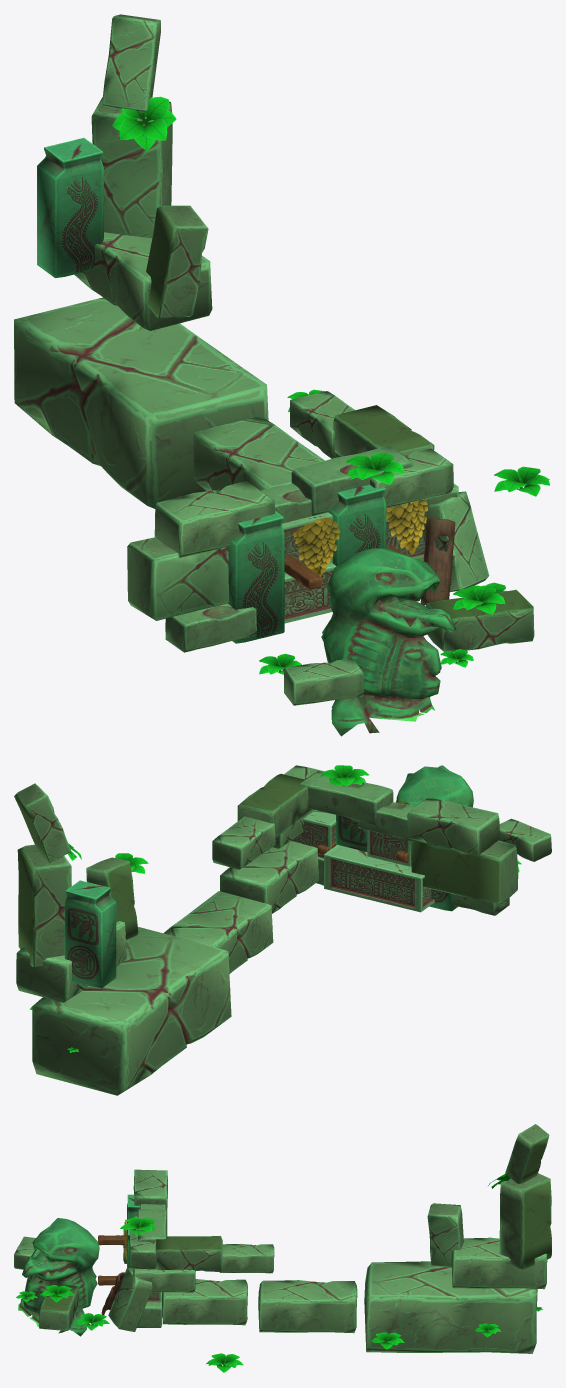
Rendered from deco_up_left.obj.
3 views of the same model, one above another, from view 1: azimuth 30°, elevation 25°; view 2: azimuth 150°, elevation 25°; view 3: azimuth 270°, elevation 25° (orthographic). The views are drawn at different scales.
Visible parts, largest first — view 1: brick3_low.014, Cube_001.002, column3_low.002, brick3_low.039, brick3_low.012, brick3_low.001, brick3_low, column3_low.001, brick3_low.006, brick3_low.086, brick3_low.040, brick3_low.024 (+17 smaller); view 2: brick3_low.014, brick3_low.039, brick3_low.001, column3_low.002, brick3_low.012, brick.020, brick3_low.003, brick3_low, brick2_low.002, brick3_low.006, brick3_low.005, brick3_low.040 (+12 smaller); view 3: brick3_low.014, Cube_001.002, brick3_low.012, brick3_low.039, brick3_low.006, brick3_low.003, brick3_low.005, brick3_low.086, brick3_low.022, brick3_low.040, brick3_low.023, brick3_low.024 (+12 smaller).
Part boxes in pixels (bbox=[...]): brick3_low.014: bbox=[14, 297, 268, 508]; Cube_001.002: bbox=[321, 548, 456, 736]; column3_low.002: bbox=[37, 138, 103, 277]; brick3_low.039: bbox=[91, 97, 172, 238]; brick3_low.012: bbox=[193, 416, 324, 491]; brick3_low.001: bbox=[127, 537, 228, 620]; brick3_low: bbox=[154, 481, 275, 557]; column3_low.001: bbox=[226, 511, 284, 643]; brick3_low.006: bbox=[74, 232, 212, 330]; brick3_low.086: bbox=[146, 205, 208, 317]; brick3_low.040: bbox=[102, 14, 160, 112]; brick3_low.024: bbox=[426, 589, 534, 651]; brick3_low.014: bbox=[32, 927, 231, 1095]; brick3_low.039: bbox=[17, 844, 71, 966]; brick3_low.001: bbox=[410, 839, 518, 904]; column3_low.002: bbox=[64, 880, 116, 988]; brick3_low.012: bbox=[164, 891, 273, 973]; brick.020: bbox=[324, 845, 434, 912]; brick3_low.003: bbox=[220, 841, 318, 913]; brick3_low: bbox=[407, 797, 500, 855]; brick2_low.002: bbox=[300, 771, 393, 824]; brick3_low.006: bbox=[16, 921, 126, 1002]; brick3_low.005: bbox=[237, 773, 313, 837]; brick3_low.040: bbox=[14, 783, 70, 862]; brick3_low.014: bbox=[364, 1261, 537, 1353]; Cube_001.002: bbox=[18, 1218, 99, 1336]; brick3_low.012: bbox=[258, 1280, 357, 1333]; brick3_low.039: bbox=[499, 1173, 551, 1269]; brick3_low.006: bbox=[451, 1237, 547, 1289]; brick3_low.003: bbox=[161, 1279, 247, 1325]; brick3_low.005: bbox=[155, 1236, 222, 1271]; brick3_low.086: bbox=[427, 1203, 463, 1267]; brick3_low.022: bbox=[108, 1268, 152, 1331]; brick3_low.040: bbox=[505, 1124, 549, 1183]; brick3_low.023: bbox=[219, 1244, 274, 1273]; brick3_low.024: bbox=[39, 1283, 78, 1330].
Size of the model in its own units: 518 by 417 by 838.
